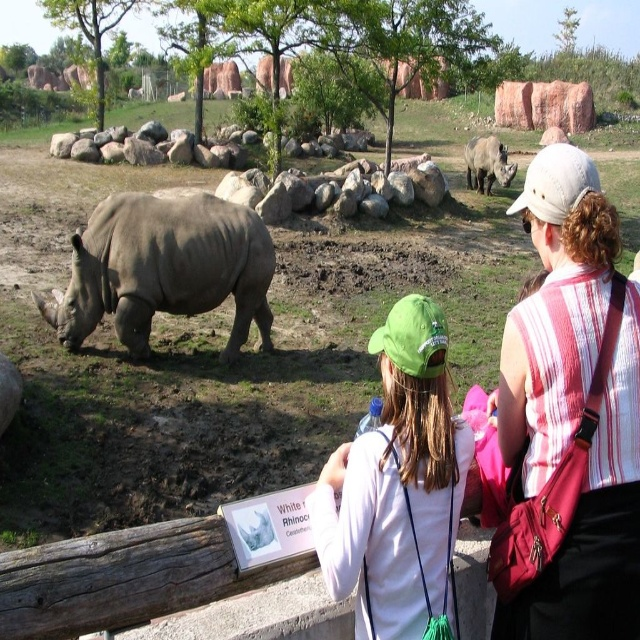Rhinoceros: (19, 188, 282, 368), (462, 134, 518, 196)
